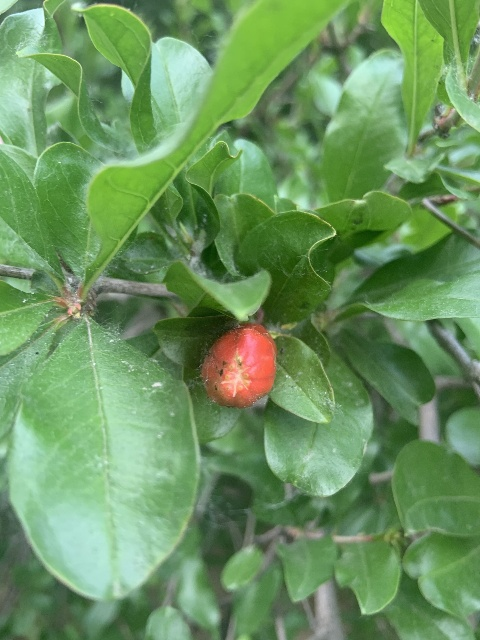bud: (201, 323, 276, 409)
